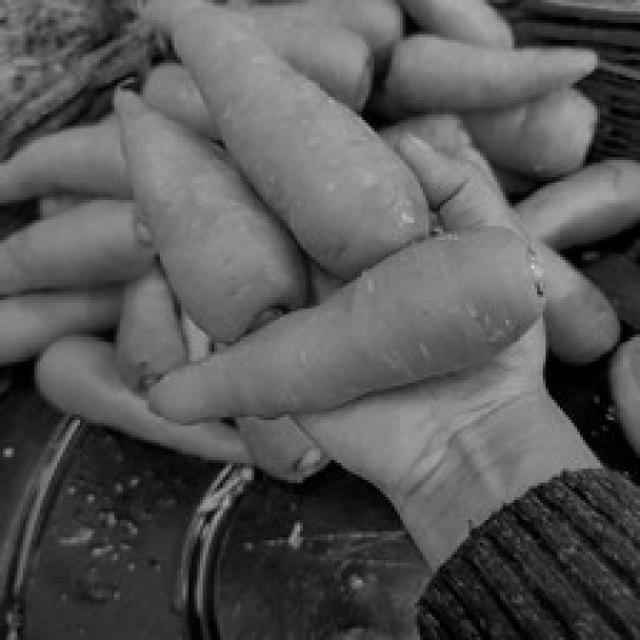Fresh_Carrot: (169, 20, 400, 242)
